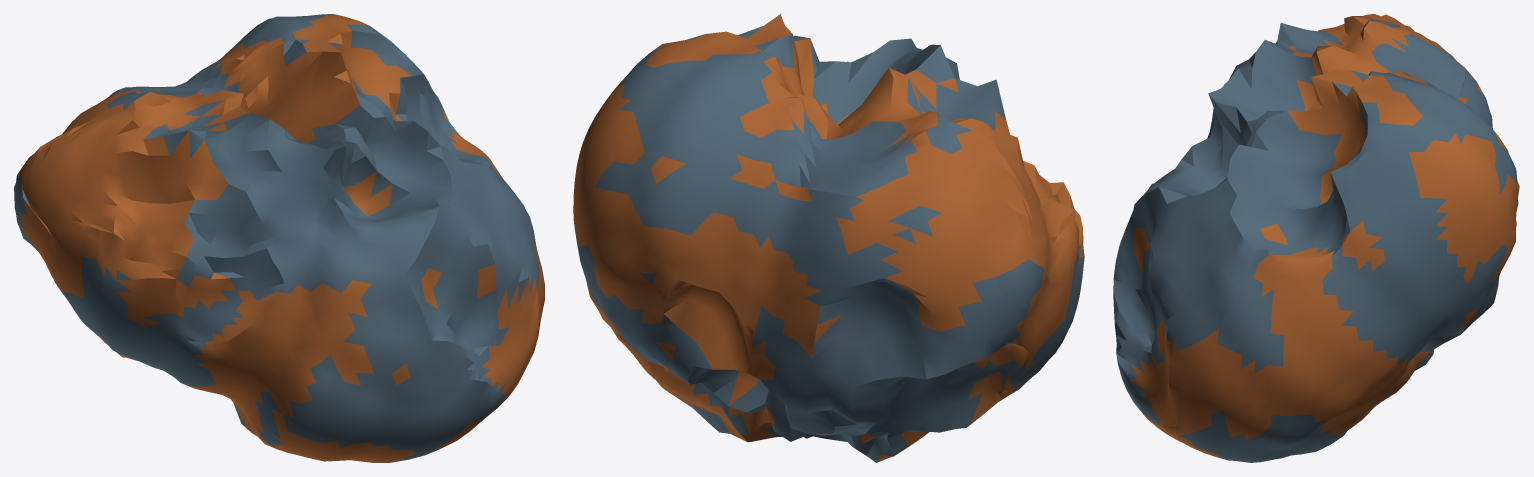
Rendered from big-metallic-asteroid.glb.
3 renders of one model, left to right at view 1: azimuth 30°, elevation 25°; view 2: azimuth 150°, elevation 25°; view 3: azimuth 270°, elevation 25°, orthographic. The views are drawn at different scales.
Parts seen in each view (by area): view 1: body; view 2: body; view 3: body.
Boxes of the visible parts, box(x1,y1,x2,y2) form: body: box(14, 14, 544, 462); body: box(573, 14, 1084, 462); body: box(1113, 14, 1519, 462).
Bounding box in the file's own units: 5.24 × 4.31 × 4.32.
